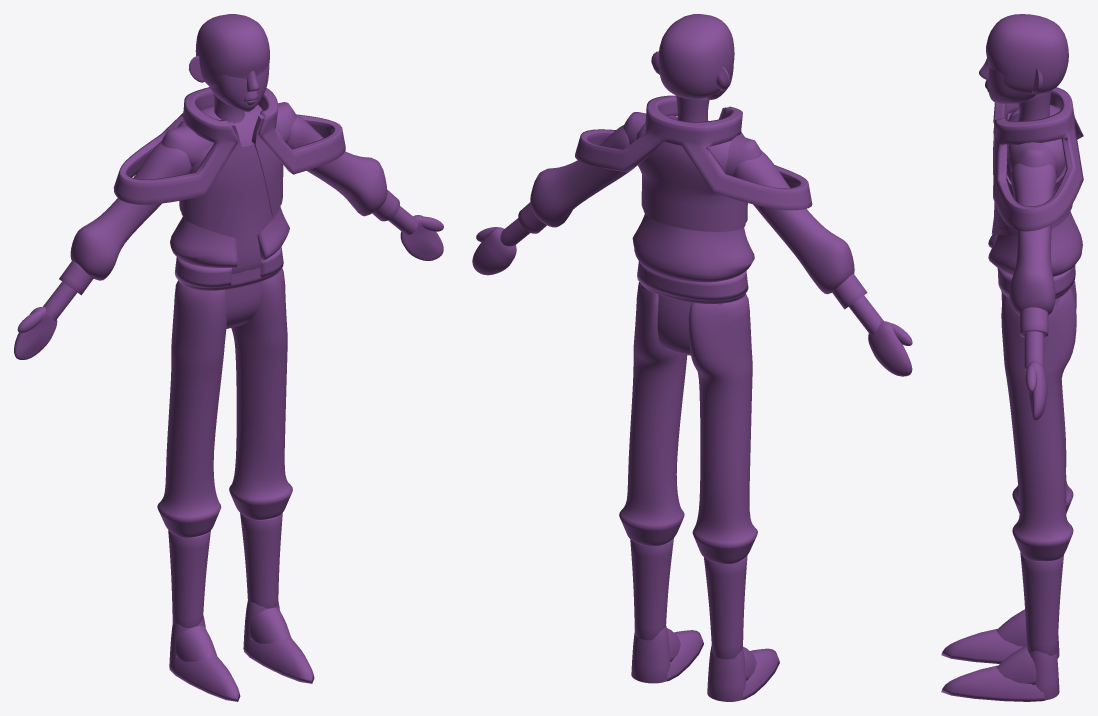
The model's file is PlayerChar.fbx.
The picture shows the model from 3 angles, left to right: view 1: azimuth 30°, elevation 25°; view 2: azimuth 150°, elevation 25°; view 3: azimuth 270°, elevation 25°; orthographic projection. The views are drawn at different scales.
Parts seen in each view (by area): view 1: Pants, Jacket, Boots, Guard, Vest, Head, Hands, Sleeve, Shirt, Belt; view 2: Pants, Jacket, Boots, Guard, Vest, Head, Hands, Sleeve; view 3: Pants, Boots, Jacket, Guard, Head, Hands, Sleeve, Vest.
Part boxes in pixels (x1,y1,x2,y2): Pants: (157,268,292,537); Jacket: (70,94,387,280); Boots: (168,513,314,701); Guard: (113,87,345,204); Vest: (179,114,283,241); Head: (188,14,269,112); Hands: (14,206,443,359); Sleeve: (59,190,399,295); Shirt: (231,236,261,274); Belt: (178,267,280,290); Pants: (619,282,757,563); Jacket: (530,95,854,294); Boots: (630,538,779,701); Guard: (575,95,812,210); Vest: (637,107,747,231); Head: (651,14,734,99); Hands: (472,218,912,376); Sleeve: (518,202,867,309); Pants: (1001,281,1076,561); Boots: (941,552,1063,701); Jacket: (988,91,1082,315); Guard: (993,87,1083,231); Head: (979,14,1068,103); Hands: (1024,331,1047,420); Sleeve: (997,265,1075,337); Vest: (991,103,1072,235).
Size of the model in its own units: 1.24 by 1.77 by 0.3499.
